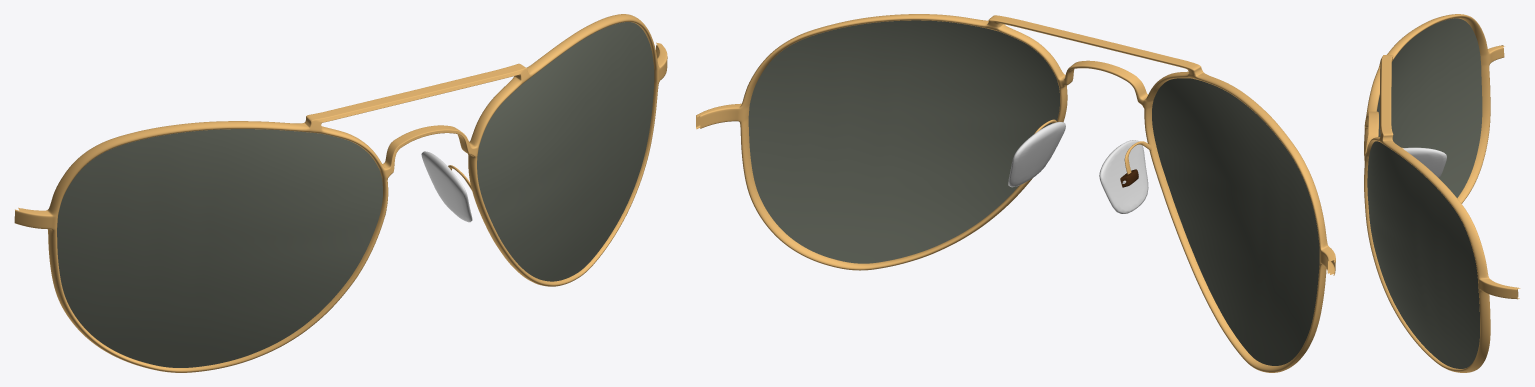
File: Glasses_Aviaattroit.fbx
3 renders of one model, left to right at view 1: azimuth 30°, elevation 25°; view 2: azimuth 150°, elevation 25°; view 3: azimuth 270°, elevation 25°, orthographic. The views are drawn at different scales.
Parts seen in each view (by area): view 1: Aviators; view 2: Aviators; view 3: Aviators.
Boxes of the visible parts, x1,y1,x2,y2 form: Aviators: [14, 14, 667, 372]; Aviators: [696, 14, 1335, 372]; Aviators: [1364, 14, 1520, 372].
Bounding box in the file's own units: 95.27 × 35.9 × 25.87.
